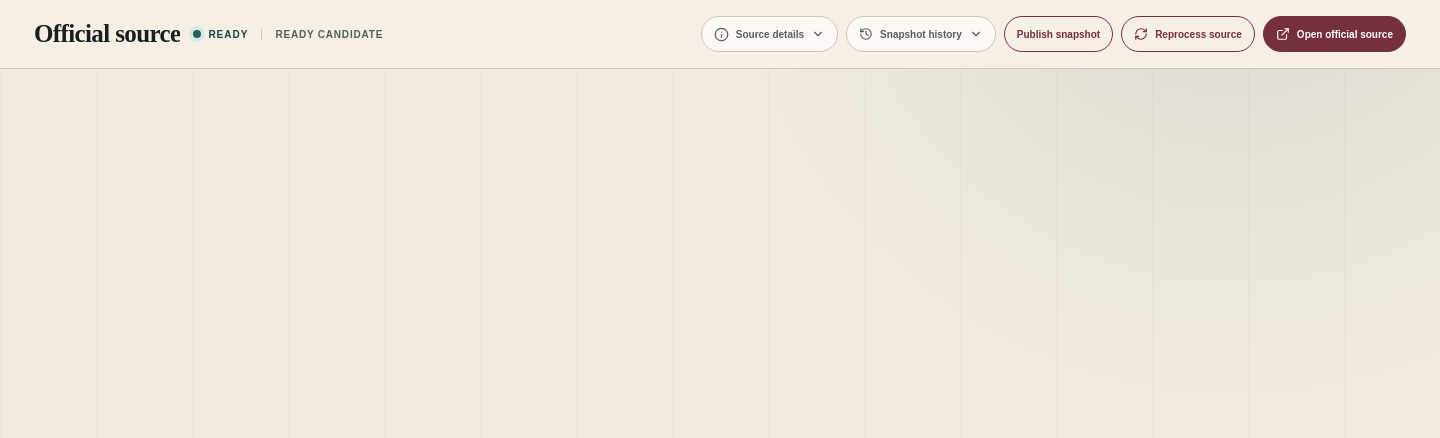
Scenario: source lifecycle status › loads immutable release manifests only when requested
Click the heading "Snapshot history" at (921, 34), box [846,16,996,52]
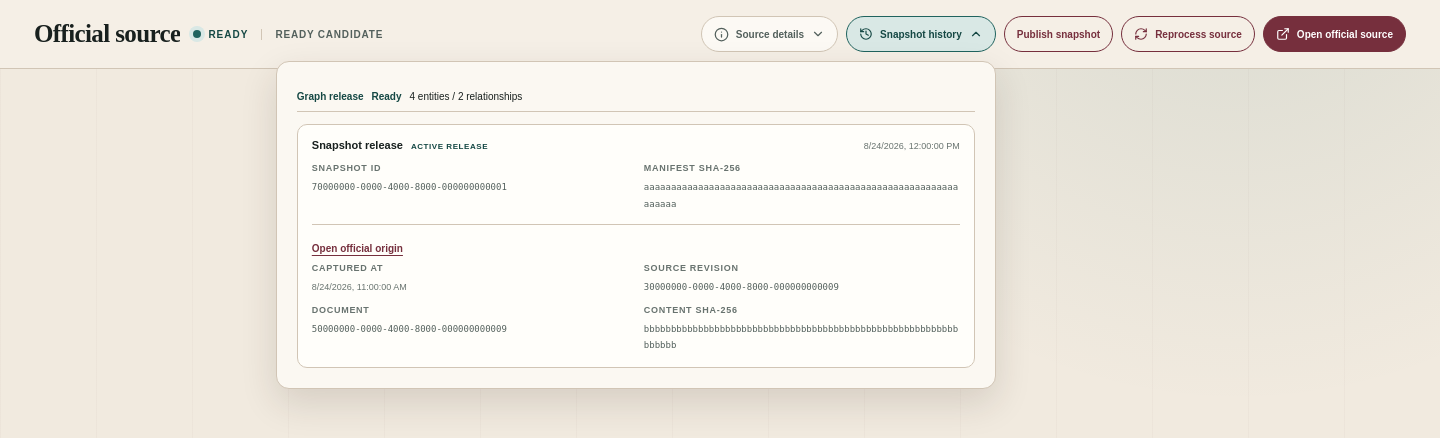
Expected: the text "Snapshot release" is shown, [312,139,403,151]
Expected: the text "Active release" is shown, [411,142,488,151]
Expected: the text "Graph release" is shown, [297,91,364,102]
